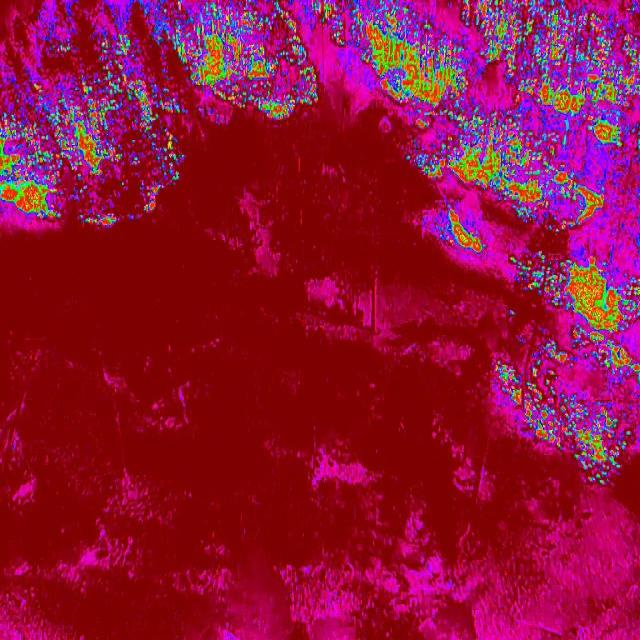fire: (0, 0, 640, 108), (404, 107, 640, 252), (0, 108, 190, 234), (508, 251, 640, 364), (491, 363, 640, 417), (529, 416, 640, 454), (576, 456, 622, 486)
